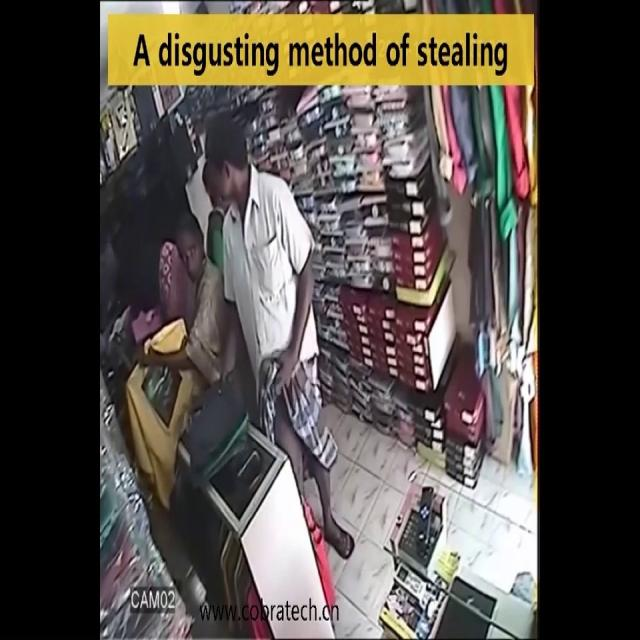Product: (130, 338, 180, 447), (189, 388, 248, 478)
shoplifting: (192, 111, 356, 566), (145, 180, 209, 376)
